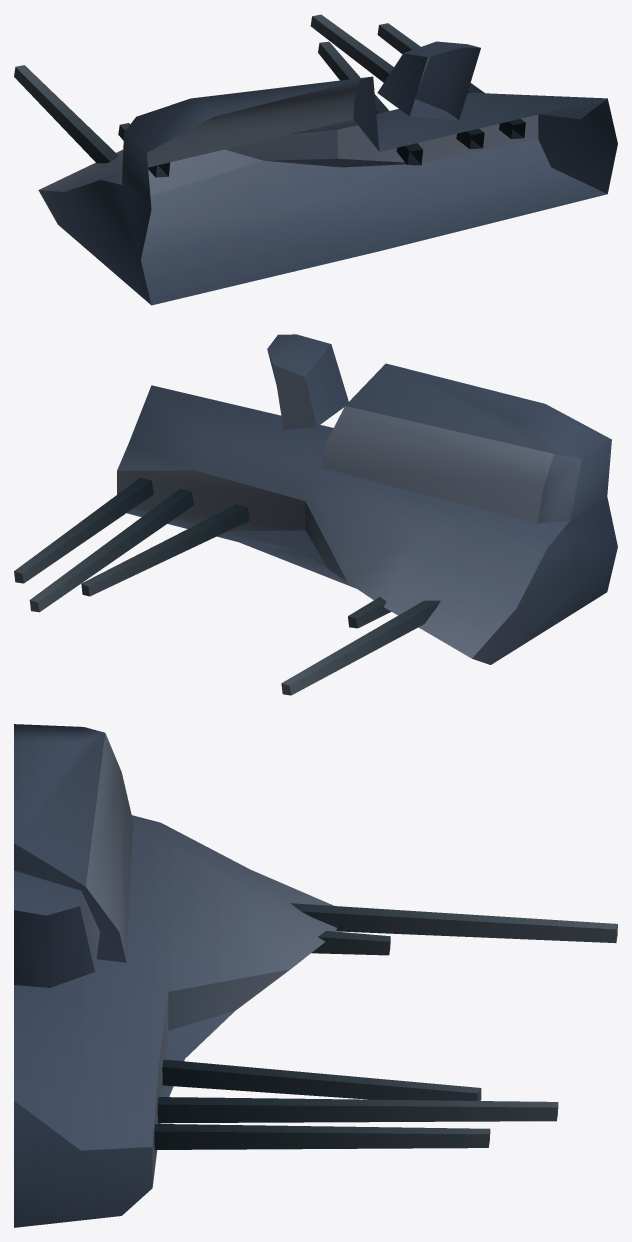
File: Ruin 03.FBX
The picture shows the model from 3 angles, top to bottom: view 1: azimuth 30°, elevation 25°; view 2: azimuth 150°, elevation 25°; view 3: azimuth 270°, elevation 25°; orthographic projection. The views are drawn at different scales.
Visible parts, largest first — view 1: Ruin 03; view 2: Ruin 03; view 3: Ruin 03.
Boxes of the visible parts, x1,y1,x2,y2 form: Ruin 03: (14,14,617,305); Ruin 03: (14,334,617,695); Ruin 03: (14,724,617,1227).
Bounding box in the file's own units: 289 × 106 × 238.
Materials: 1 (1 with a texture image).
